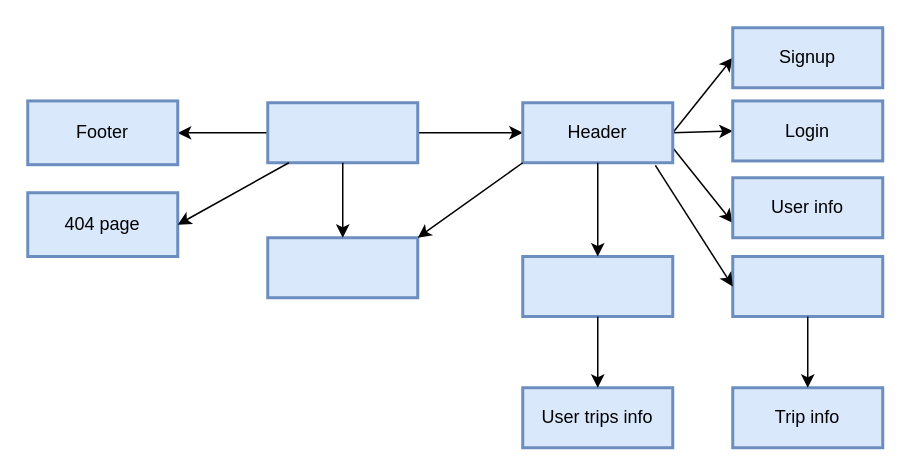
Some shapes in this 909 by 474 pixel diagram are drawn without their labels. The shapes that lost their labels are listed below. From the top down, each one's centre as x and y in pixels, then its label:
(342,132): App
(342,267): Home
(597,285): User trips
(807,285): Trips
